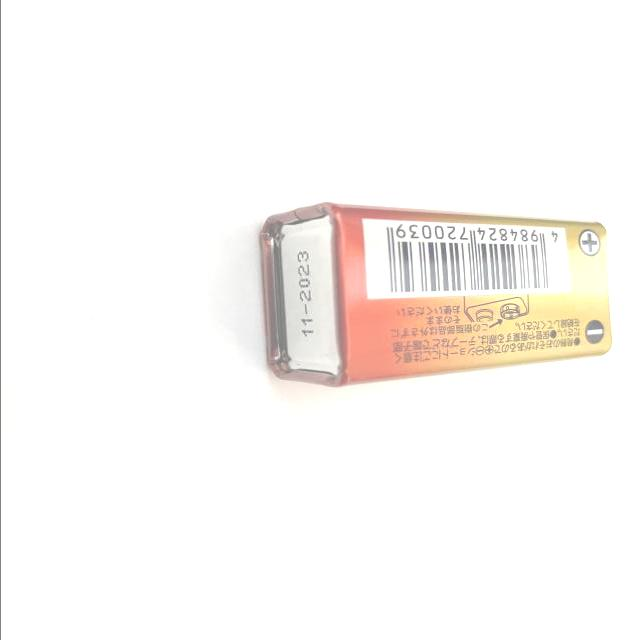9V: (254, 203, 613, 389)
